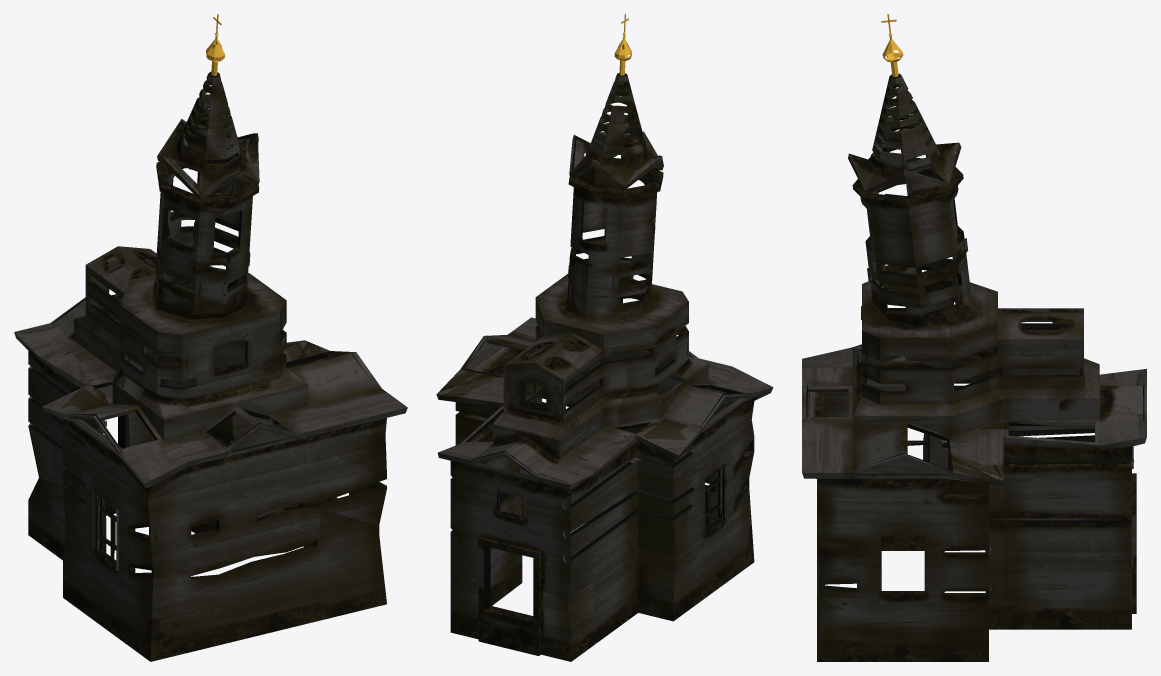
File: церковь модель.fbx
The picture shows the model from 3 angles, left to right: view 1: azimuth 30°, elevation 25°; view 2: azimuth 150°, elevation 25°; view 3: azimuth 270°, elevation 25°; orthographic projection. The views are drawn at different scales.
Visible parts, largest first — view 1: Куб.003; view 2: Куб.003; view 3: Куб.003, Куб.005.
Boxes of the visible parts, x1,y1,x2,y2 form: Куб.003: [14, 72, 407, 661]; Куб.003: [436, 73, 773, 661]; Куб.003: [802, 73, 1146, 661]; Куб.005: [881, 14, 903, 76].
Bounding box in the file's own units: 346 × 749 × 401.
2 materials, 1 textured.
